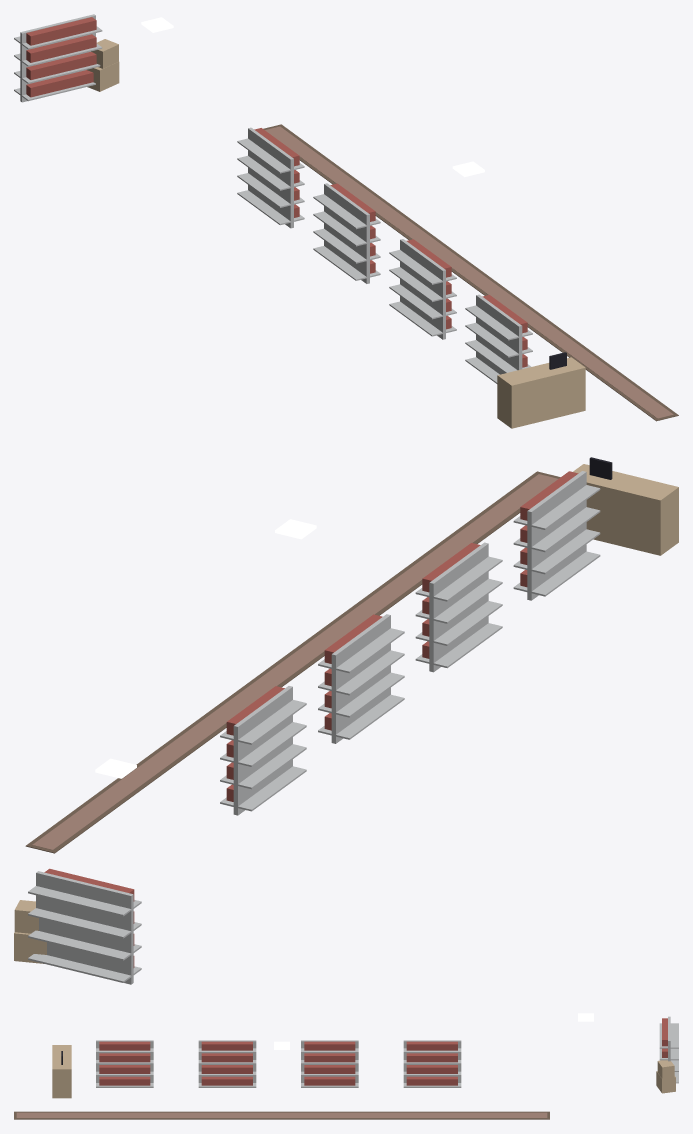
The model's file is fine-s0.glb.
3 views of the same model, one above another, from view 1: azimuth 30°, elevation 25°; view 2: azimuth 150°, elevation 25°; view 3: azimuth 270°, elevation 25° (orthographic). The views are drawn at different scales.
Parts seen in each view (by area): view 1: soft-s0, shelving.000, shop-counter.000, shelf.000, shelf.001, shelf.002, shelf.003, cardboard-box.000; view 2: soft-s0, shelving.000, shelf.002, shelf.000, shelf.001, shelf.003, shop-counter.000, cardboard-box.000; view 3: soft-s0, shelf.000, shelf.002, shelf.001, shelf.003, shop-counter.000, shelving.000, cardboard-box.000.
Part boxes in pixels (box(x1,y1,x2,y2)): soft-s0: box(263, 124, 678, 421); shelving.000: box(14, 14, 102, 102); shop-counter.000: box(497, 352, 585, 428); shelf.000: box(237, 127, 304, 228); shelf.001: box(313, 183, 380, 283); shelf.002: box(389, 239, 456, 339); shelf.003: box(465, 294, 532, 383); cardboard-box.000: box(87, 39, 119, 91); soft-s0: box(25, 471, 560, 853); shelving.000: box(28, 868, 141, 984); shelf.002: box(415, 542, 502, 672); shelf.000: box(220, 686, 306, 815); shelf.001: box(318, 614, 404, 743); shelf.003: box(513, 471, 600, 600); shop-counter.000: box(573, 457, 678, 555); cardboard-box.000: box(14, 900, 46, 963); soft-s0: box(14, 1111, 549, 1119); shelf.000: box(403, 1040, 461, 1087); shelf.002: box(198, 1040, 256, 1087); shelf.001: box(301, 1040, 358, 1087); shelf.003: box(96, 1040, 153, 1087); shop-counter.000: box(52, 1045, 71, 1098); shelving.000: box(659, 1016, 678, 1083); cardboard-box.000: box(656, 1060, 675, 1093).
Bounding box in the file's own units: 4.17 × 2.44 × 20.76.
